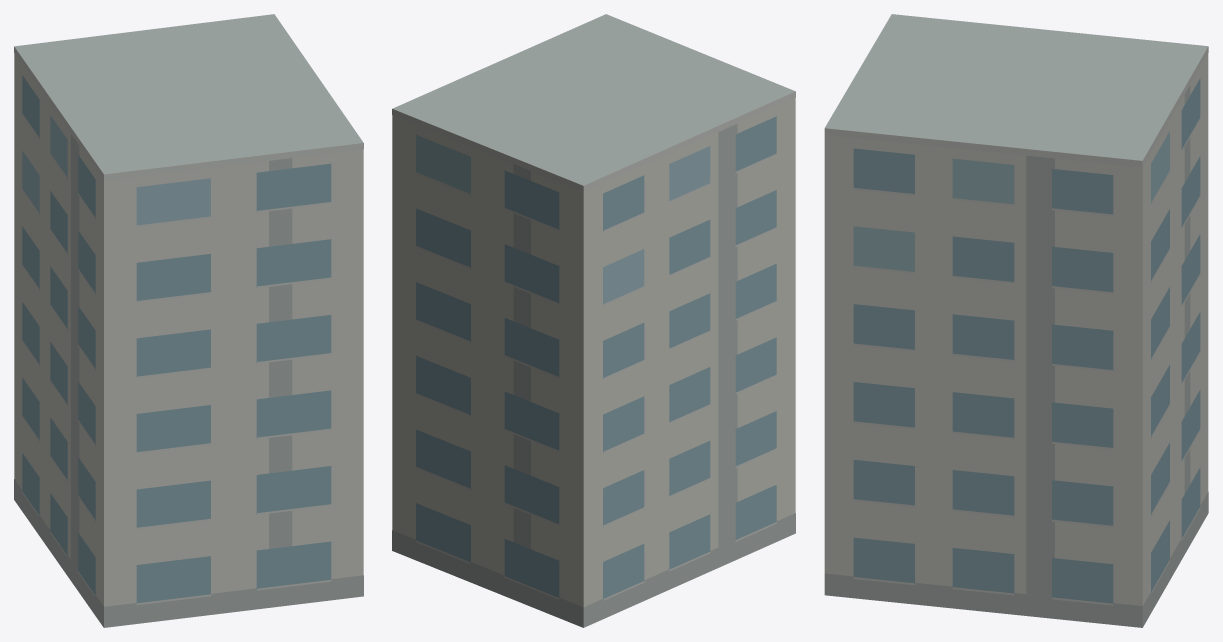
The model's file is survey-upis-32706218.glb.
3 views of the same model, side by side, from view 1: azimuth 30°, elevation 25°; view 2: azimuth 150°, elevation 25°; view 3: azimuth 270°, elevation 25° (orthographic). The views are drawn at different scales.
Visible parts, largest first — view 1: survey-upis-32706218.tmp; view 2: survey-upis-32706218.tmp; view 3: survey-upis-32706218.tmp.
Part boxes in pixels (bbox=[...]): survey-upis-32706218.tmp: bbox=[14, 14, 363, 627]; survey-upis-32706218.tmp: bbox=[392, 14, 795, 627]; survey-upis-32706218.tmp: bbox=[824, 14, 1208, 627].
Bounding box in the file's own units: 11.61 × 17.2 × 12.83.
